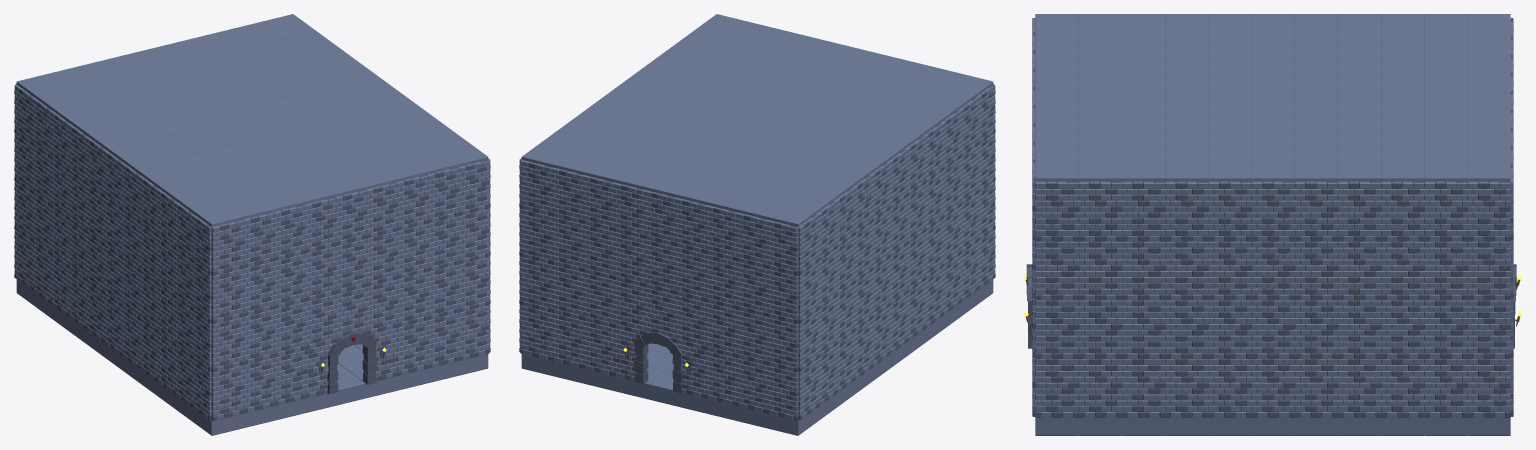
Rendered from CombatRoom_9x11.gltf.
The picture shows the model from 3 angles, left to right: view 1: azimuth 30°, elevation 25°; view 2: azimuth 150°, elevation 25°; view 3: azimuth 270°, elevation 25°; orthographic projection. The views are drawn at different scales.
Parts seen in each view (by area): view 1: ArchOpen, Wall_S_0_T3, Wall_S_0_T0, Wall_S_0_T1, Wall_S_0_T2, Wall_S_5_T3, Wall_S_1_T3, Wall_S_8_T3, Wall_S_4_T3, Wall_S_2_T3, Wall_S_6_T3, Wall_S_5_T1 (+174 smaller); view 2: ArchOpen.001, Wall_N_0_T3, Wall_N_0_T0, Wall_N_0_T1, Wall_N_0_T2, Wall_N_5_T3, Wall_N_1_T3, Wall_N_8_T3, Wall_N_4_T3, Wall_N_2_T3, Wall_N_6_T3, Wall_N_5_T1 (+174 smaller); view 3: Wall_E_5_T3, Wall_E_0_T3, Wall_E_10_T3, Wall_E_1_T3, Wall_E_3_T3, Wall_E_4_T3, Wall_E_6_T3, Wall_E_7_T3, Wall_E_9_T3, Wall_E_0_T2, Wall_E_10_T2, Wall_E_5_T2 (+142 smaller).
Part boxes in pixels (x1,y1,x2,y2): ArchOpen: (305, 328, 397, 398); Wall_S_0_T3: (211, 220, 243, 276); Wall_S_0_T0: (211, 365, 243, 420); Wall_S_0_T1: (211, 317, 243, 372); Wall_S_0_T2: (211, 269, 243, 324); Wall_S_5_T3: (365, 182, 397, 238); Wall_S_1_T3: (242, 212, 274, 268); Wall_S_8_T3: (457, 160, 489, 216); Wall_S_4_T3: (334, 190, 366, 246); Wall_S_2_T3: (273, 205, 305, 261); Wall_S_6_T3: (396, 175, 428, 231); Wall_S_5_T1: (366, 279, 397, 334); ArchOpen.001: (612, 328, 704, 398); Wall_N_0_T3: (766, 220, 798, 276); Wall_N_0_T0: (766, 365, 798, 420); Wall_N_0_T1: (766, 317, 798, 372); Wall_N_0_T2: (766, 269, 798, 324); Wall_N_5_T3: (612, 182, 644, 238); Wall_N_1_T3: (735, 212, 767, 268); Wall_N_8_T3: (520, 160, 552, 216); Wall_N_4_T3: (643, 190, 675, 246); Wall_N_2_T3: (704, 205, 736, 261); Wall_N_6_T3: (581, 175, 613, 231); Wall_N_5_T1: (612, 279, 643, 334); Wall_E_5_T3: (1251, 181, 1294, 241); Wall_E_0_T3: (1035, 181, 1078, 241); Wall_E_10_T3: (1467, 181, 1510, 241); Wall_E_1_T3: (1078, 181, 1121, 241); Wall_E_3_T3: (1165, 181, 1208, 241); Wall_E_4_T3: (1208, 181, 1251, 241); Wall_E_6_T3: (1294, 181, 1337, 241); Wall_E_7_T3: (1337, 181, 1380, 241); Wall_E_9_T3: (1424, 181, 1467, 241); Wall_E_0_T2: (1035, 241, 1078, 300); Wall_E_10_T2: (1467, 241, 1510, 300); Wall_E_5_T2: (1251, 241, 1294, 300).
Bounding box in the file's own units: 18.3 × 13.2 × 23.04.
